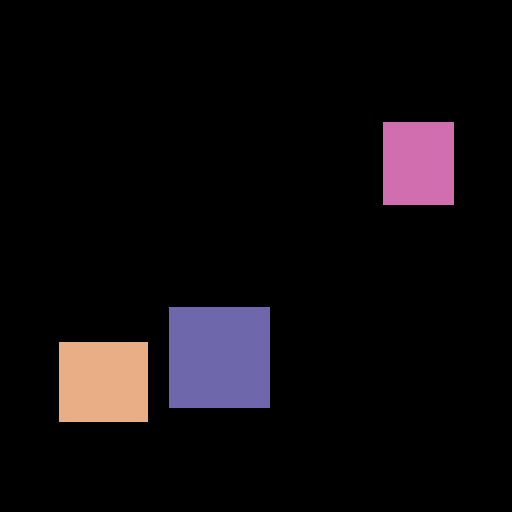rectangle: (59, 342, 147, 421), (383, 122, 453, 204)
square: (169, 307, 269, 407)
